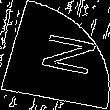N_W: (20, 29, 90, 81)
